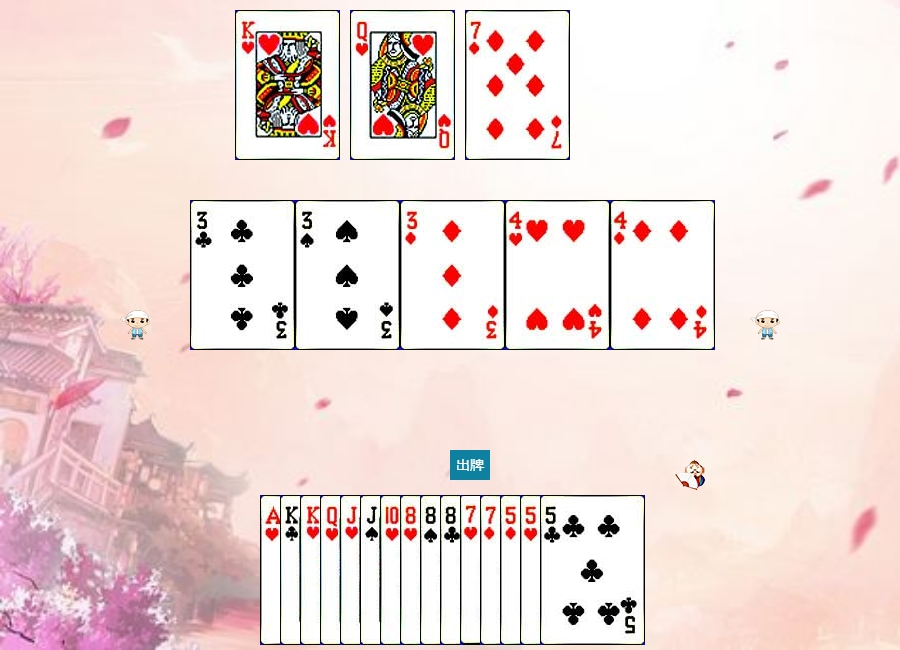10~3: (380, 495, 485, 645)
11~3: (340, 495, 445, 645)
11~4: (360, 495, 465, 645)
12~3: (350, 10, 455, 160), (320, 495, 425, 645)
13~2: (280, 495, 385, 645)
13~3: (235, 10, 340, 160), (300, 495, 405, 645)
14~3: (260, 495, 365, 645)
3~1: (400, 200, 505, 350)
3~2: (190, 200, 295, 350)
3~4: (295, 200, 400, 350)
4~1: (610, 200, 715, 350)
4~3: (505, 200, 610, 350)
5~1: (500, 495, 605, 645)
5~2: (540, 495, 645, 645)
5~3: (520, 495, 625, 645)
7~1: (465, 10, 570, 160), (480, 495, 585, 645)
7~3: (460, 495, 565, 645)
8~2: (440, 495, 545, 645)
8~3: (400, 495, 505, 645)
8~4: (420, 495, 525, 645)
